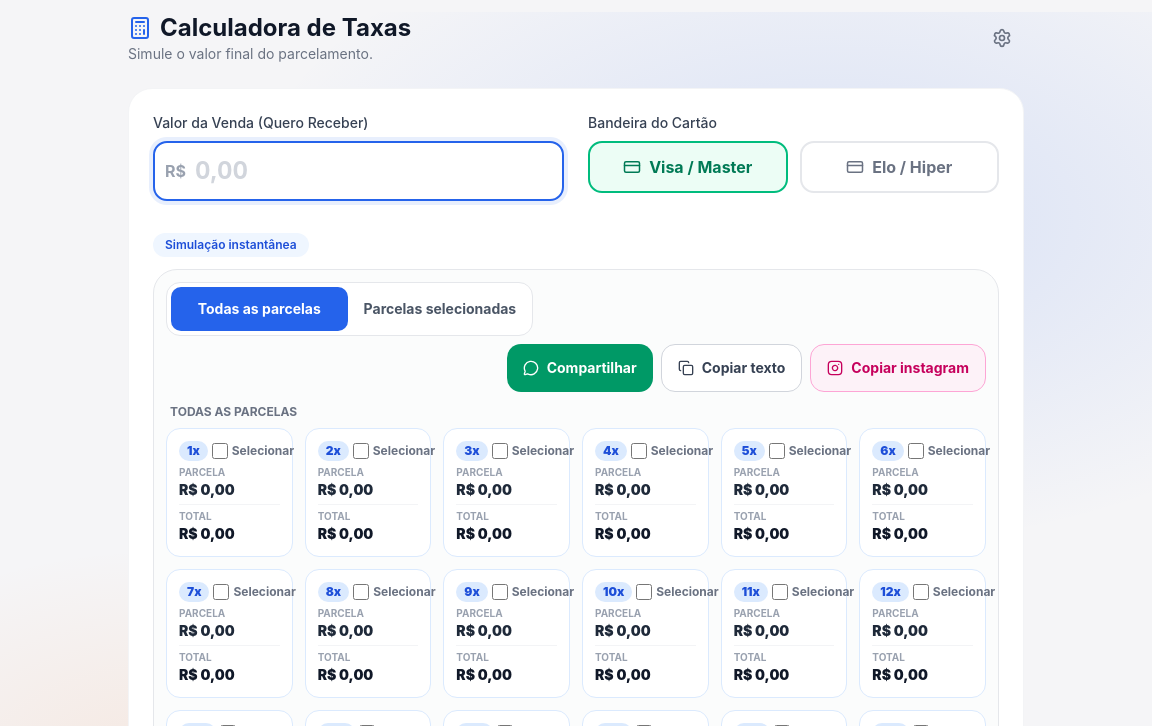
Calculator page › accepts decimals typed with comma smoothly
Type "1500,50" into the field labelled "Valor da Venda (Quero Receber)" at (358, 171), box [153,141,564,201]
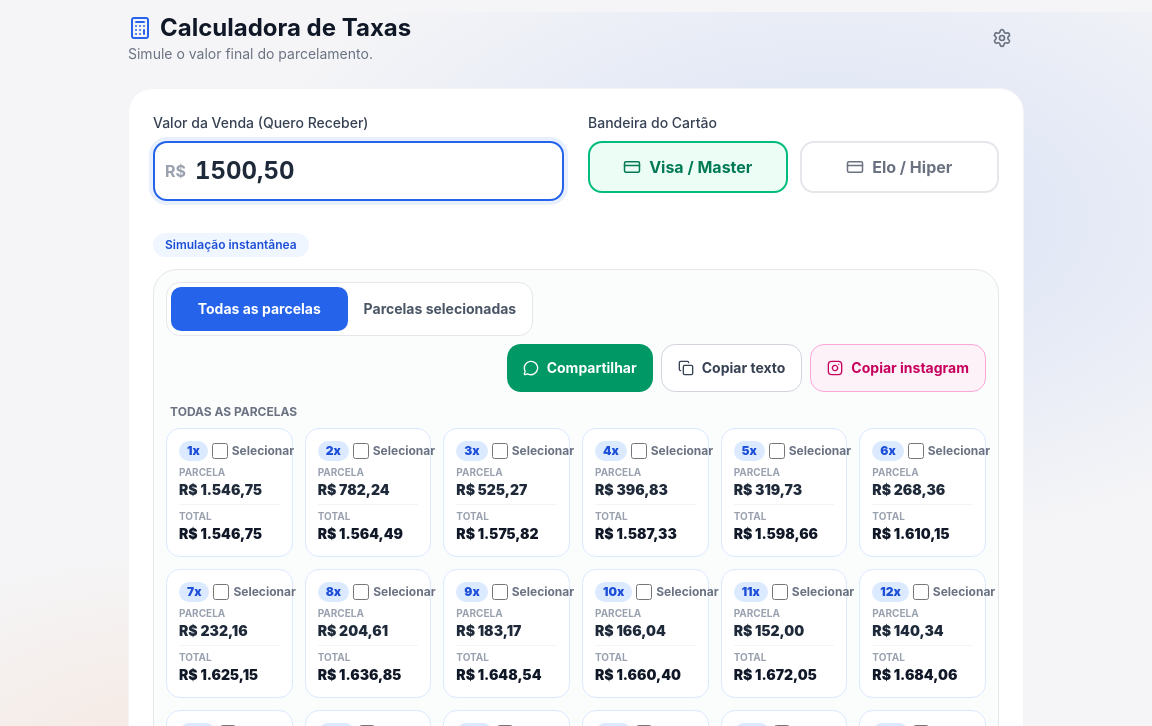
Now the 1st text "R$ 1.546,75" is shown, box [179,481,262,498]
